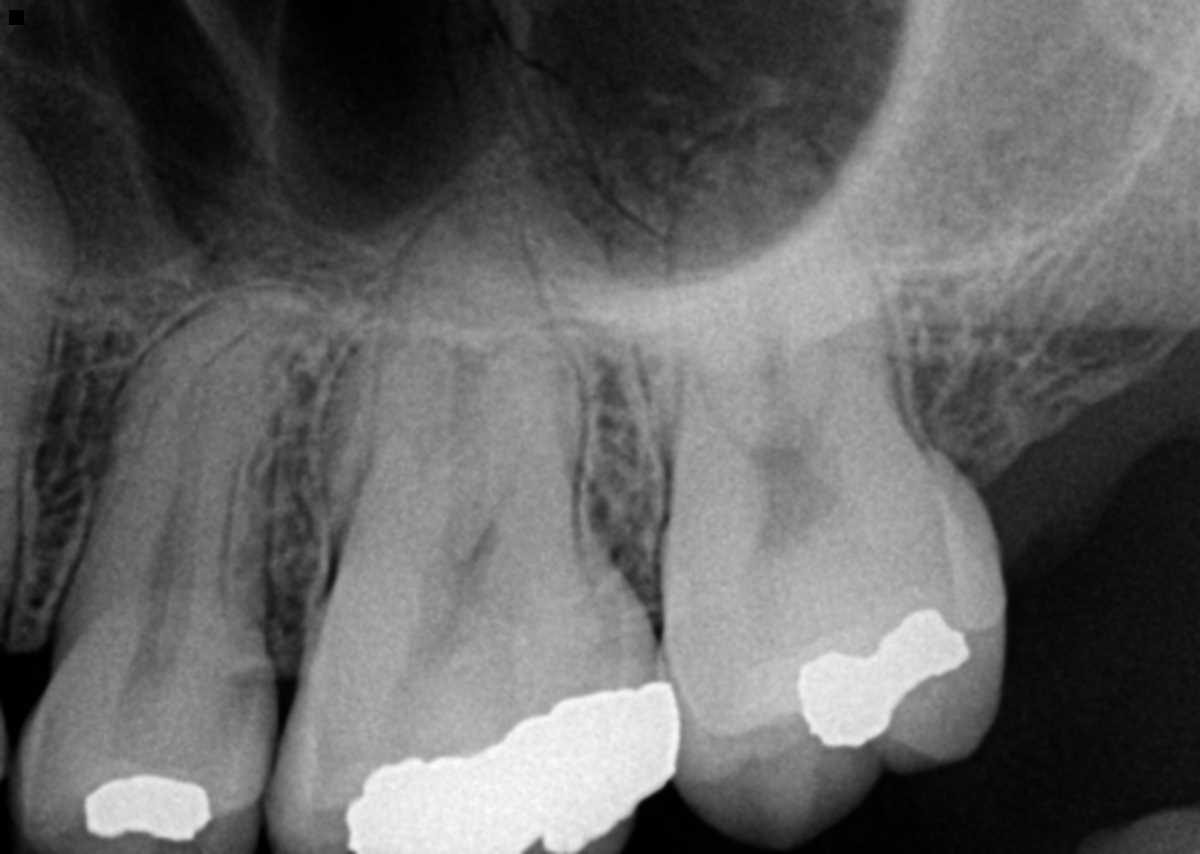Distal Root: (466, 332, 590, 580), (779, 240, 911, 454)
Main Canal: (133, 305, 279, 658)
Main Root: (54, 277, 333, 662)
Mesial Root: (616, 184, 782, 479), (323, 335, 461, 578)
Palatal Root: (345, 186, 590, 640), (667, 108, 917, 517)
